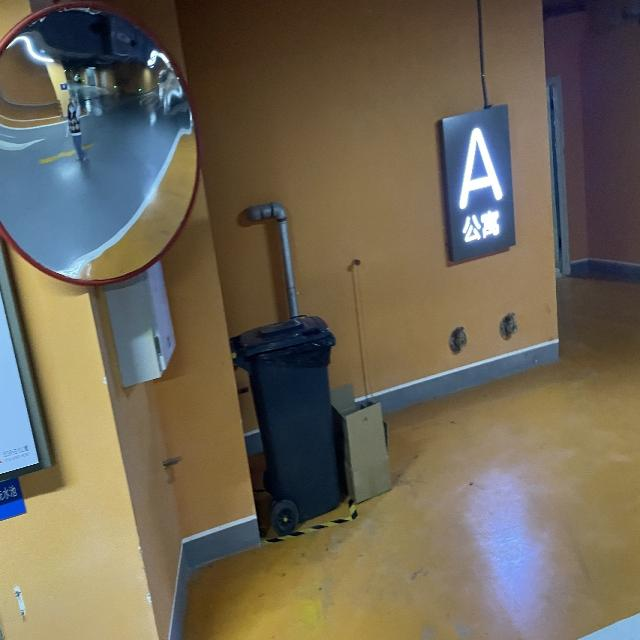garbage: (330, 383, 390, 503)
garbage_bin: (228, 315, 338, 522)
